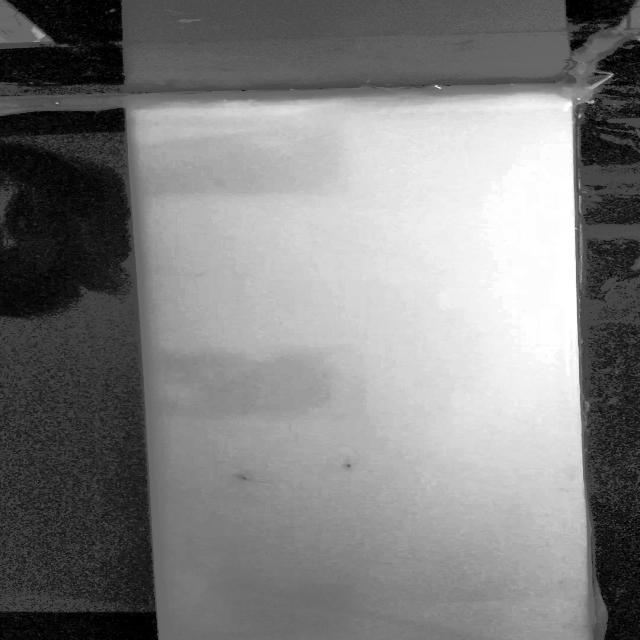shrimp: (329, 456, 366, 478), (228, 468, 260, 488)
